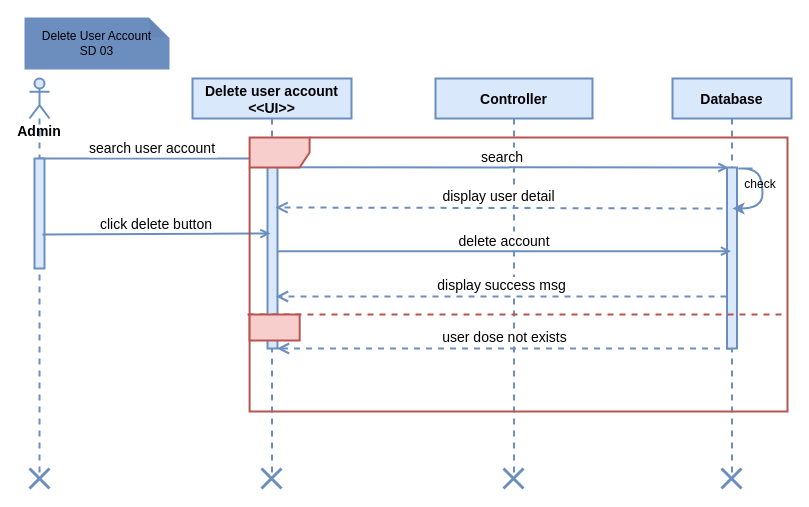
Some shapes in this 809 by 507 pixel diagram are drawn without their labels. Each missing label, with the box of its shape:
altenative: (248, 136, 788, 412)
else: (248, 313, 300, 341)
